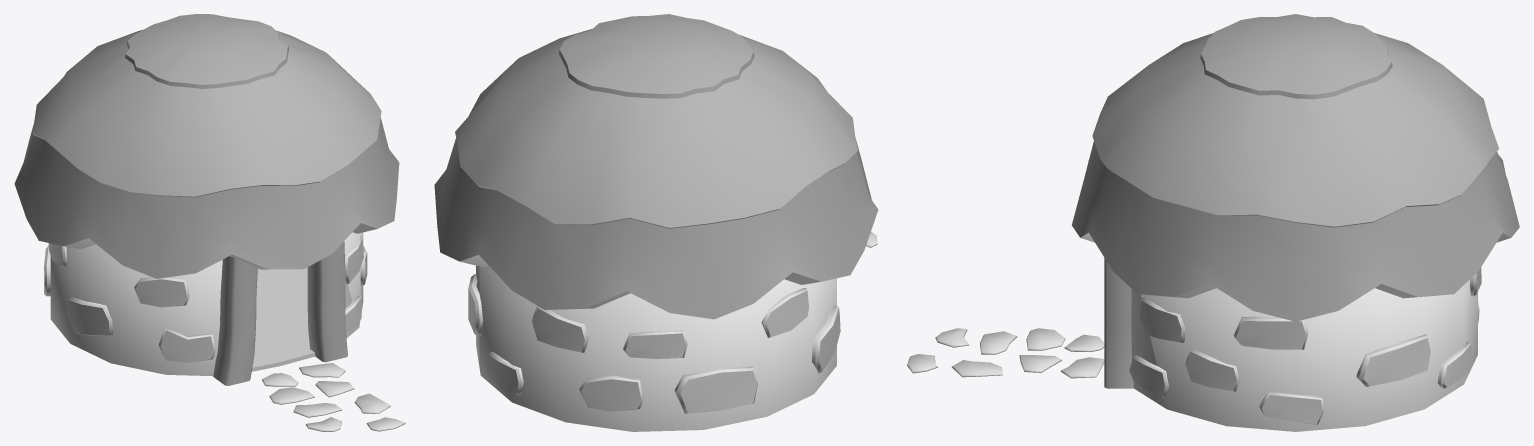
The model's file is ArcherBarrack_lvl2.fbx.
3 renders of one model, left to right at view 1: azimuth 30°, elevation 25°; view 2: azimuth 150°, elevation 25°; view 3: azimuth 270°, elevation 25°, orthographic. The views are drawn at different scales.
Parts seen in each view (by area): view 1: Lvl2_ArcherBarrack; view 2: Lvl2_ArcherBarrack; view 3: Lvl2_ArcherBarrack.
Part boxes in pixels (bbox=[...]): Lvl2_ArcherBarrack: bbox=[14, 14, 405, 431]; Lvl2_ArcherBarrack: bbox=[434, 14, 878, 431]; Lvl2_ArcherBarrack: bbox=[907, 14, 1519, 431].
Size of the model in its own units: 2.89 by 2.25 by 3.95.
